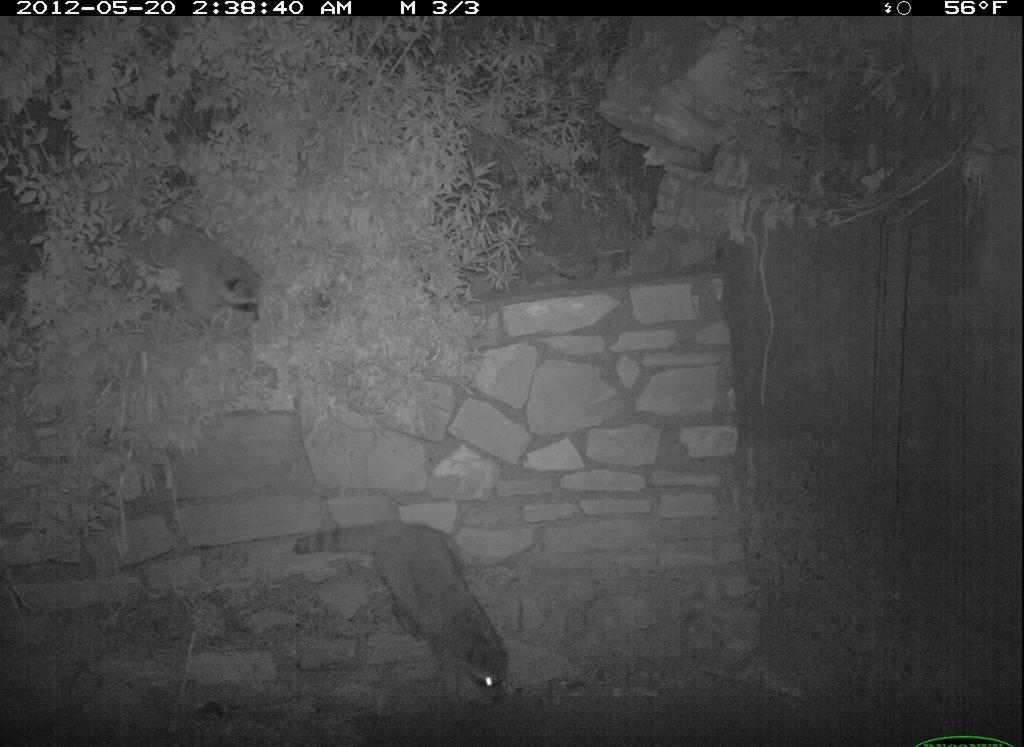raccoon: (282, 504, 524, 703)
